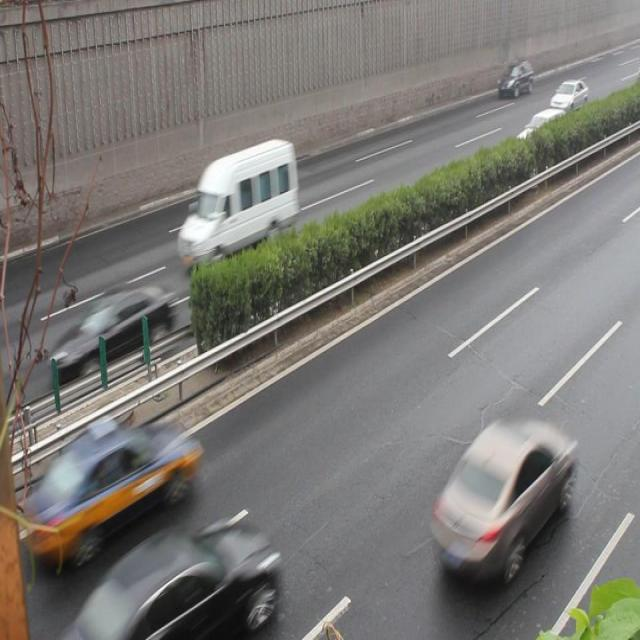car: (83, 518, 276, 640), (430, 416, 573, 572), (51, 413, 198, 545), (47, 283, 174, 383), (514, 109, 566, 160), (549, 78, 588, 116), (496, 58, 533, 98)
truck: (177, 139, 298, 269)
